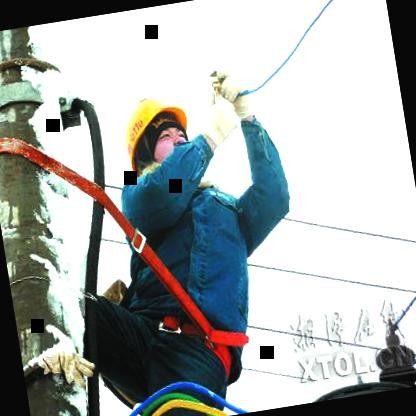helmet: (112, 76, 204, 184)
